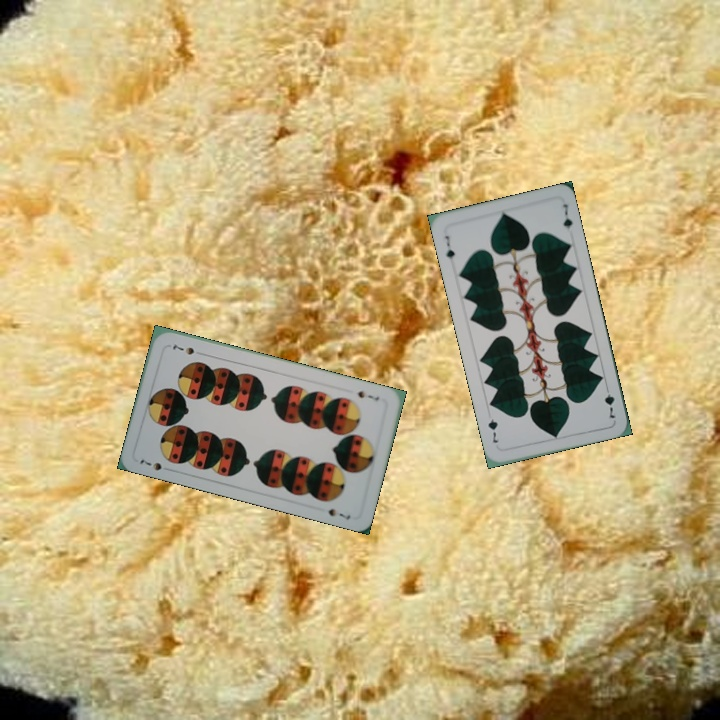G7: (600, 381, 618, 421), (441, 231, 457, 262)
S7: (136, 455, 164, 473), (353, 387, 382, 403)
